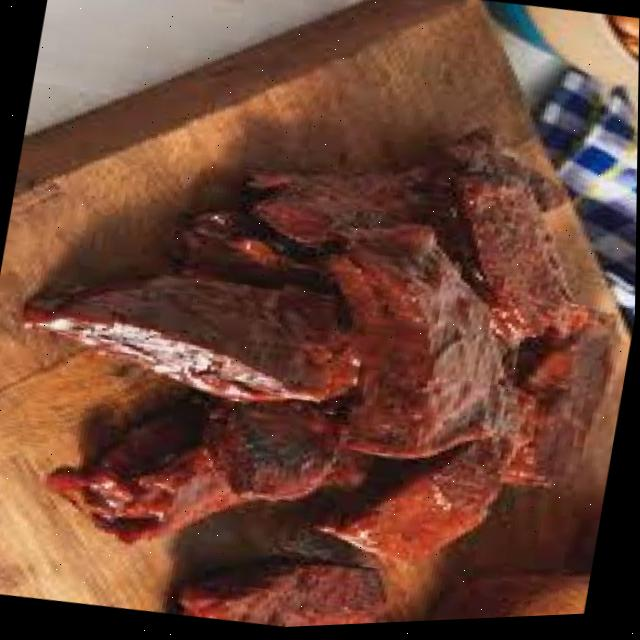Wet: (0, 24, 639, 640)
